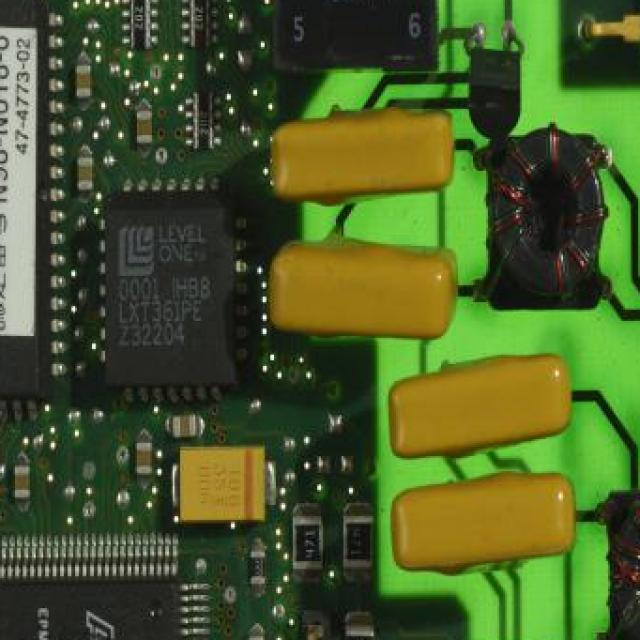IC: (105, 192, 238, 388), (0, 0, 53, 404), (274, 0, 439, 75), (0, 576, 182, 640)
capacitor: (178, 444, 266, 524), (135, 439, 153, 477), (13, 464, 31, 501), (77, 156, 95, 193), (75, 64, 93, 101), (135, 109, 153, 146), (173, 413, 198, 438), (248, 634, 264, 640)
resistor: (292, 514, 324, 572), (344, 512, 376, 570), (193, 92, 215, 152), (130, 0, 150, 51), (190, 0, 210, 49), (250, 548, 268, 586), (344, 625, 376, 640)
